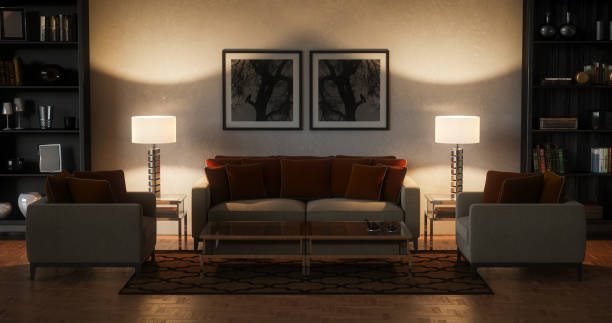chair: (451, 168, 589, 281), (24, 170, 158, 279)
side table: (154, 194, 192, 251), (422, 191, 458, 250)
sofa: (190, 150, 422, 254)
table: (198, 219, 415, 278)
table lamp: (431, 112, 483, 201), (128, 112, 178, 197)
wall art: (219, 46, 303, 130), (307, 47, 390, 132)
